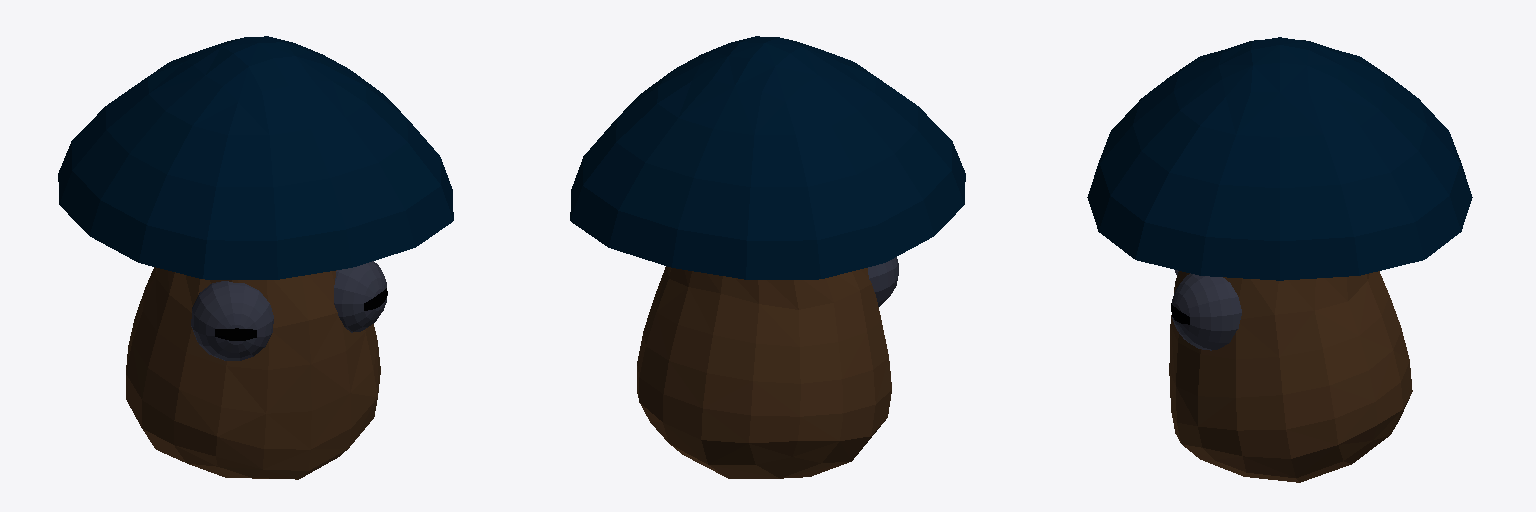
Rendered from Mushnub.obj.
The picture shows the model from 3 angles: view 1: azimuth 30°, elevation 25°; view 2: azimuth 150°, elevation 25°; view 3: azimuth 270°, elevation 25°; orthographic projection.
Visible parts, largest first — view 1: Mushnub_Blob_Cube.034; view 2: Mushnub_Blob_Cube.034; view 3: Mushnub_Blob_Cube.034.
Boxes of the visible parts, box(x1,y1,x2,y2) form: Mushnub_Blob_Cube.034: box(58, 36, 453, 479); Mushnub_Blob_Cube.034: box(570, 36, 965, 478); Mushnub_Blob_Cube.034: box(1087, 37, 1472, 482).
Size of the model in its own units: 2.75 by 3.35 by 2.75.